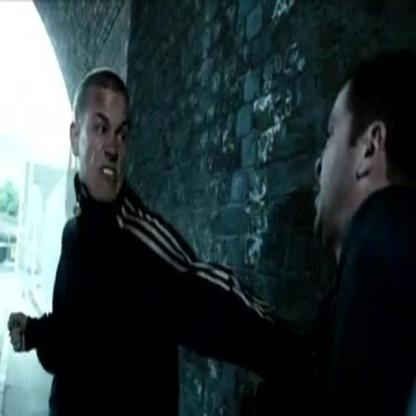face: (313, 84, 364, 234), (79, 91, 129, 203)
